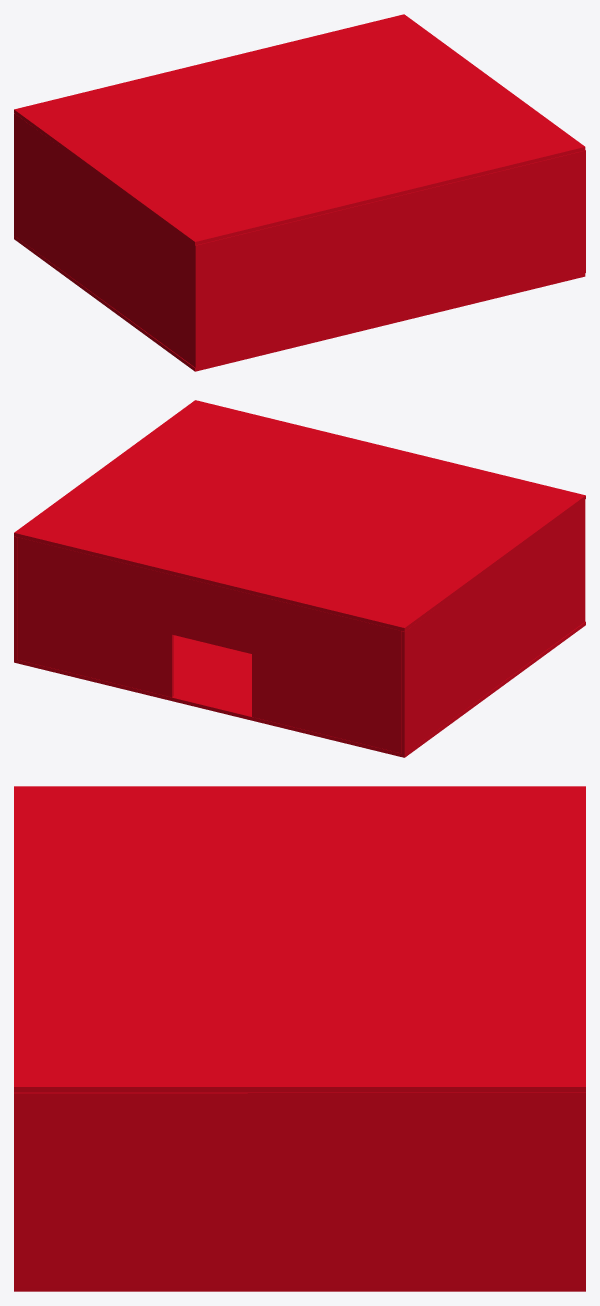
Rendered from house.fbx.
3 views of the same model, one above another, from view 1: azimuth 30°, elevation 25°; view 2: azimuth 150°, elevation 25°; view 3: azimuth 270°, elevation 25° (orthographic). The views are drawn at different scales.
Visible parts, largest first — view 1: Cube.005, Cube.003, Cube.001, Cube, Cube.002; view 2: Cube.005, Cube.004, Cube.001, Cube, Cube.002; view 3: Cube.005, Cube.002, Cube.
Part boxes in pixels (bbox=[...]): Cube.005: bbox=[14, 14, 585, 245]; Cube.003: bbox=[199, 151, 582, 367]; Cube.001: bbox=[14, 113, 198, 367]; Cube: bbox=[14, 236, 585, 371]; Cube.002: bbox=[582, 150, 585, 273]; Cube.005: bbox=[14, 400, 585, 631]; Cube.004: bbox=[17, 537, 401, 753]; Cube.001: bbox=[401, 500, 585, 754]; Cube: bbox=[14, 621, 585, 757]; Cube.002: bbox=[14, 536, 17, 659]; Cube.005: bbox=[14, 786, 585, 1092]; Cube.002: bbox=[14, 1092, 585, 1286]; Cube: bbox=[14, 1286, 585, 1291].
Size of the model in its own units: 1152 by 365 by 925.
